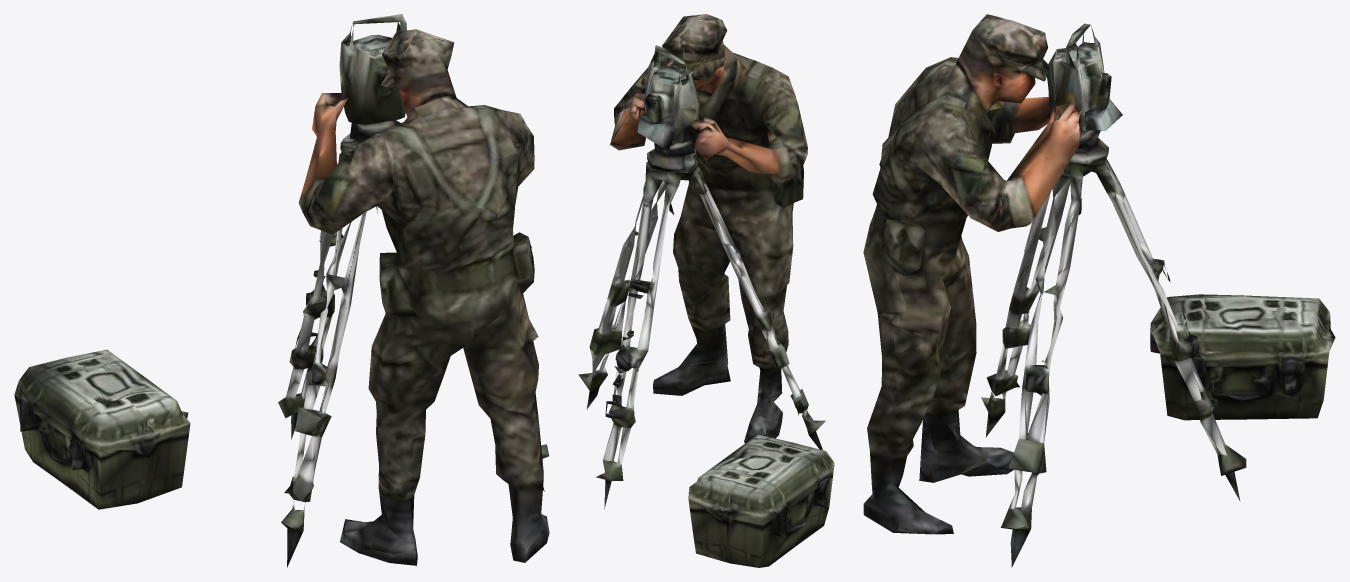
Rendered from topografo-estacao-total_lod1.glb.
3 views of the same model, side by side, from view 1: azimuth 30°, elevation 25°; view 2: azimuth 150°, elevation 25°; view 3: azimuth 270°, elevation 25° (orthographic). The views are drawn at different scales.
Parts seen in each view (by area): view 1: tripo_node_69606ae4-d30b-49ea-8783-cf3efd25aa43; view 2: tripo_node_69606ae4-d30b-49ea-8783-cf3efd25aa43; view 3: tripo_node_69606ae4-d30b-49ea-8783-cf3efd25aa43.
Part boxes in pixels (box(x1,y1,x2,y2)): tripo_node_69606ae4-d30b-49ea-8783-cf3efd25aa43: box(14, 14, 549, 567); tripo_node_69606ae4-d30b-49ea-8783-cf3efd25aa43: box(578, 14, 834, 567); tripo_node_69606ae4-d30b-49ea-8783-cf3efd25aa43: box(863, 14, 1335, 567).
Size of the model in its own units: 1.39 by 1.7 by 1.5.
1 material, 1 textured.
